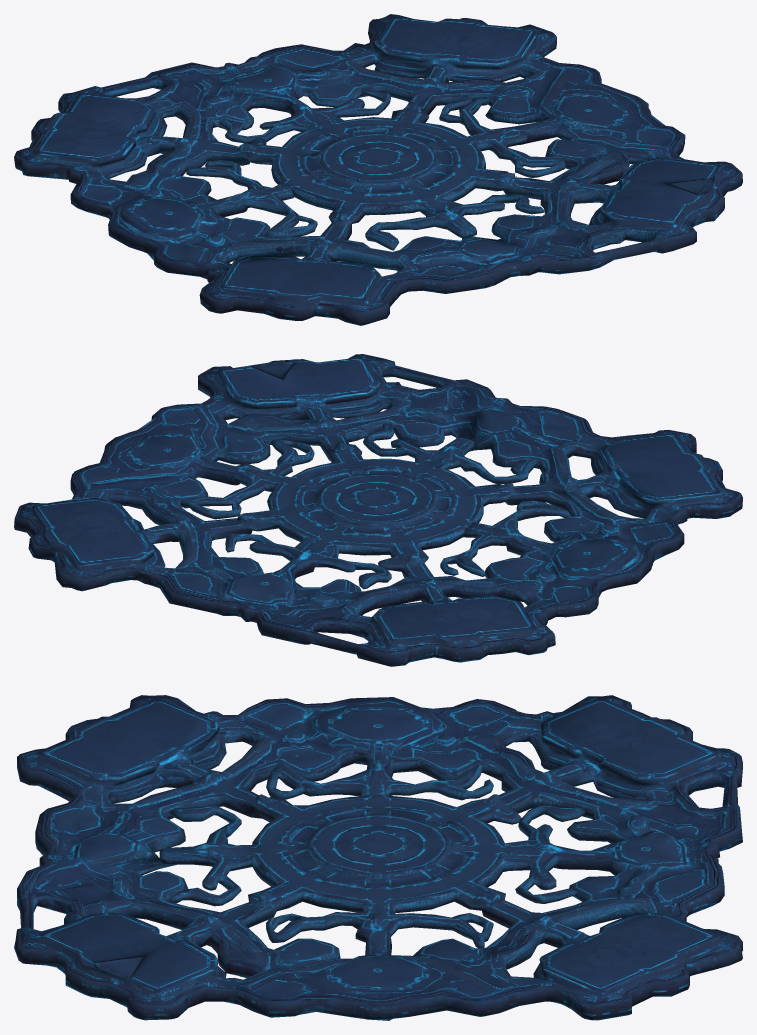
3 renders of one model, top to bottom at view 1: azimuth 30°, elevation 25°; view 2: azimuth 150°, elevation 25°; view 3: azimuth 270°, elevation 25°, orthographic. The views are drawn at different scales.
Size of the model in its own units: 1.91 by 0.0705 by 1.88.
Materials: 1 (1 with a texture image).
